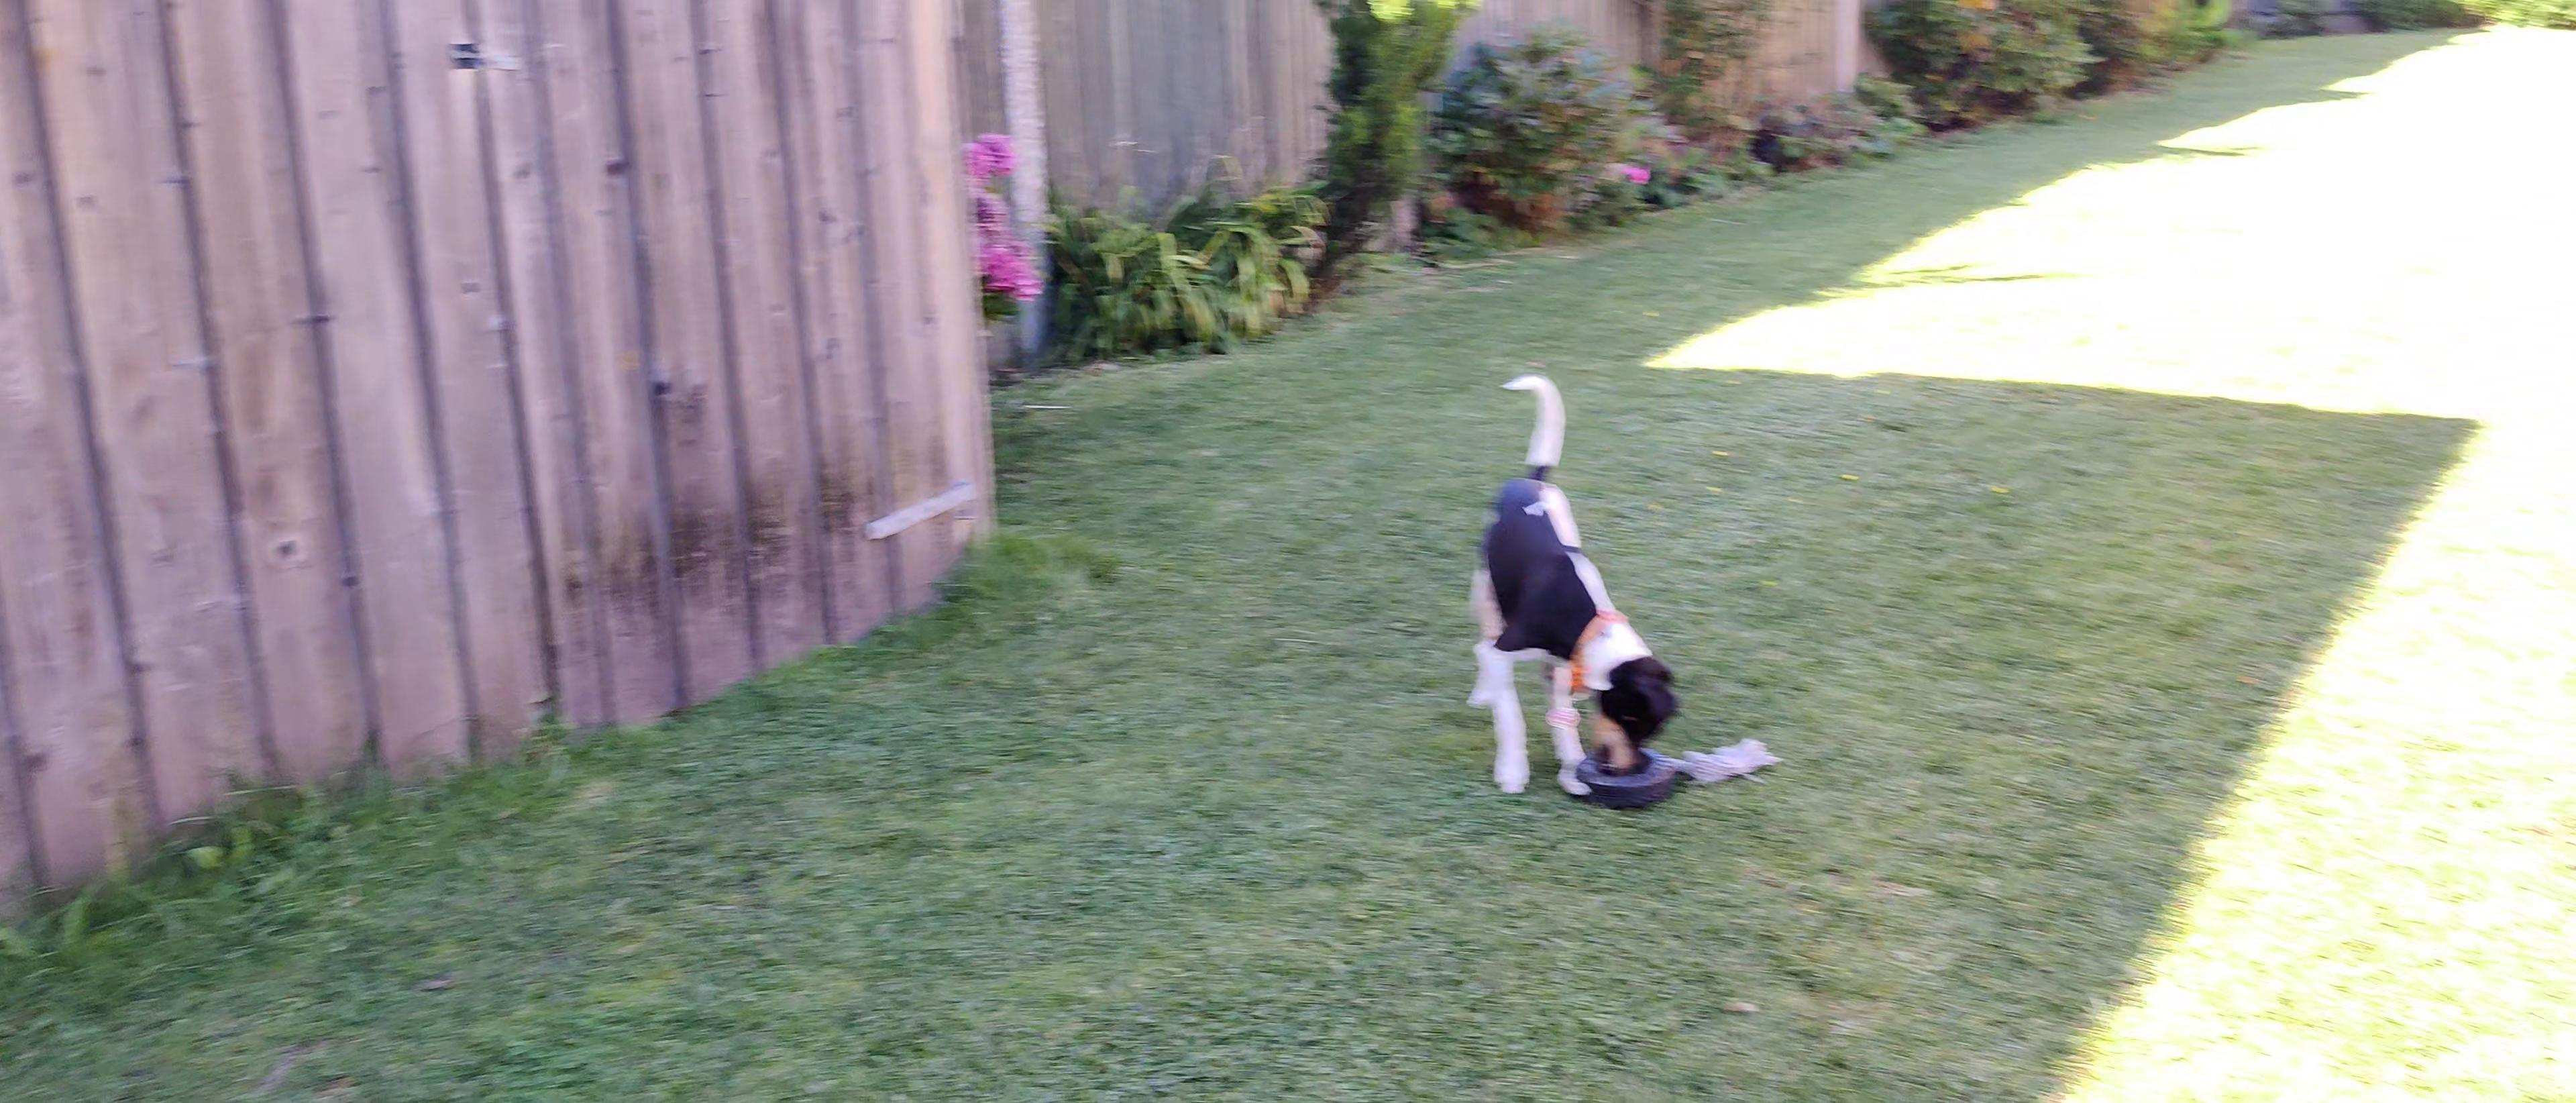Dog: (1444, 368, 1687, 804)
